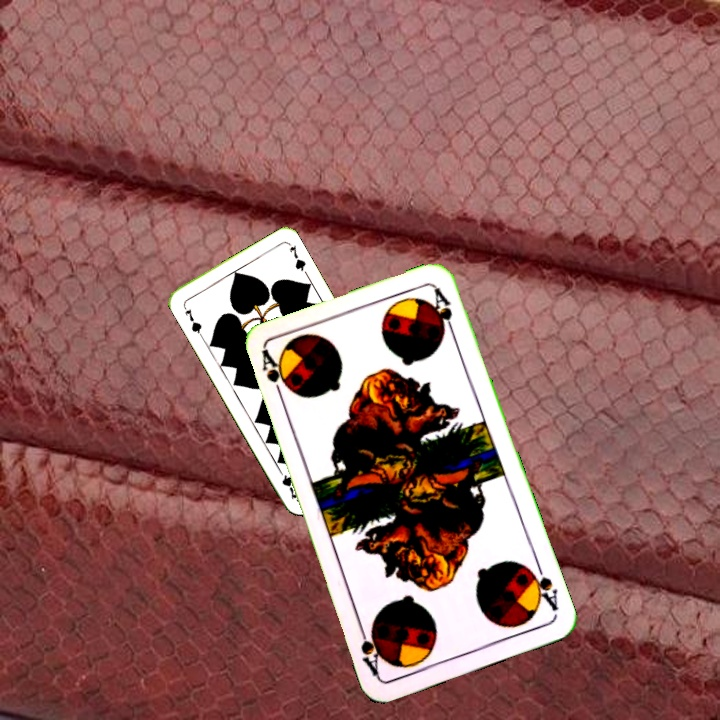G7: (181, 305, 205, 338)
SA: (522, 558, 562, 614), (257, 347, 288, 405)
